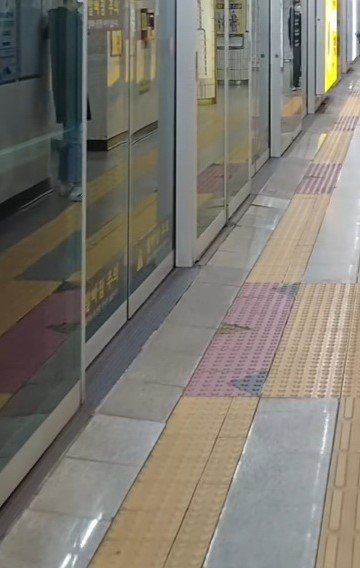warningBlock: (139, 479, 223, 538), (119, 514, 210, 567), (159, 441, 241, 481), (183, 393, 247, 438), (274, 371, 336, 399), (282, 355, 342, 380), (297, 305, 351, 331), (293, 331, 350, 354), (300, 282, 354, 305)
